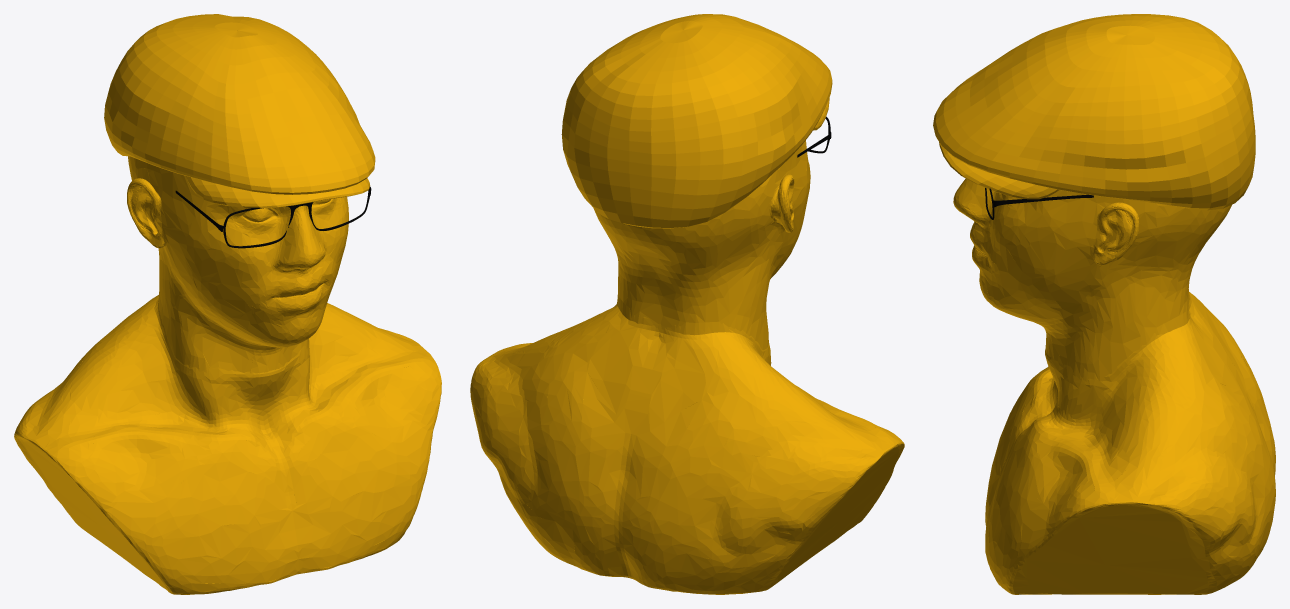
File: filipo.glb
3 views of the same model, side by side, from view 1: azimuth 30°, elevation 25°; view 2: azimuth 150°, elevation 25°; view 3: azimuth 270°, elevation 25° (orthographic). The views are drawn at different scales.
Visible parts, largest first — view 1: Filipo1_3Dless_Com_Simplified; view 2: Filipo1_3Dless_Com_Simplified; view 3: Filipo1_3Dless_Com_Simplified.
Boxes of the visible parts, left/top/right/bottom form: Filipo1_3Dless_Com_Simplified: left=14, top=14, right=441, bottom=594; Filipo1_3Dless_Com_Simplified: left=470, top=14, right=904, bottom=594; Filipo1_3Dless_Com_Simplified: left=933, top=14, right=1275, bottom=594.
Bounding box in the file's own units: 1.84 × 2.23 × 1.36.
